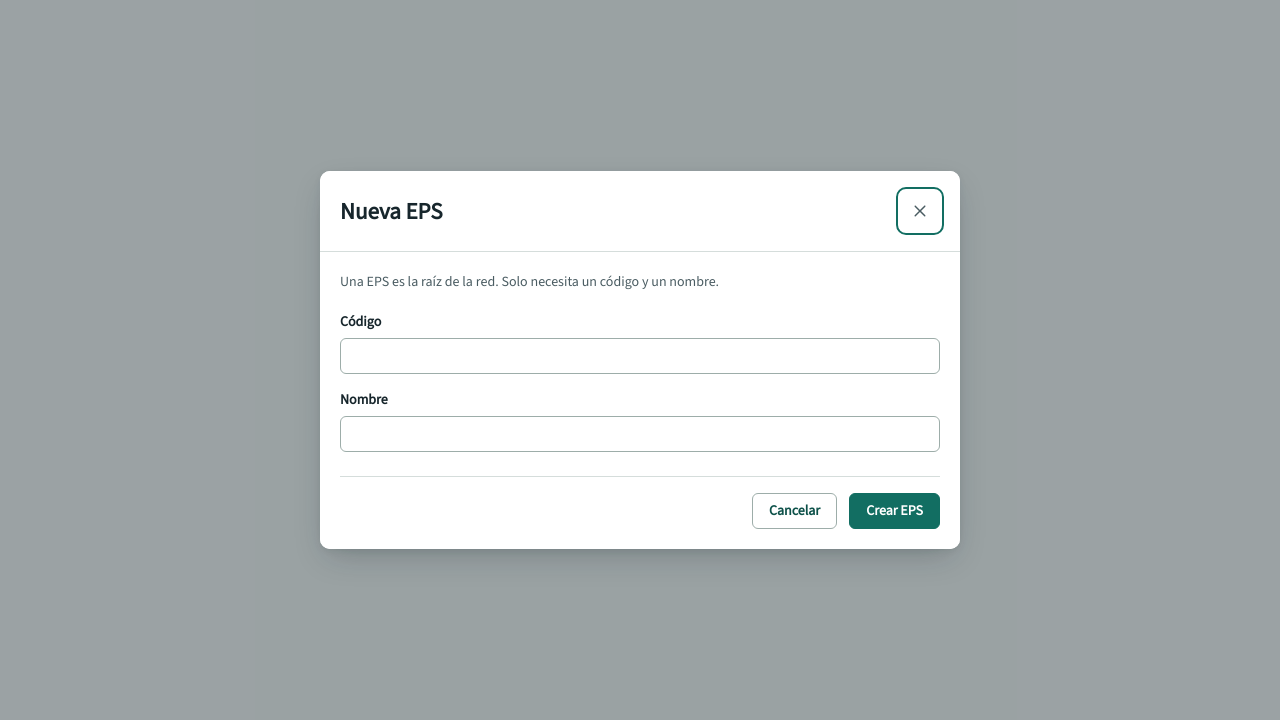
Test: keeps server 409 errors inline with entered values
Type "REPETIDO" into the field labelled "Código" at {"x": 640, "y": 356}, box [340,338,940,374]
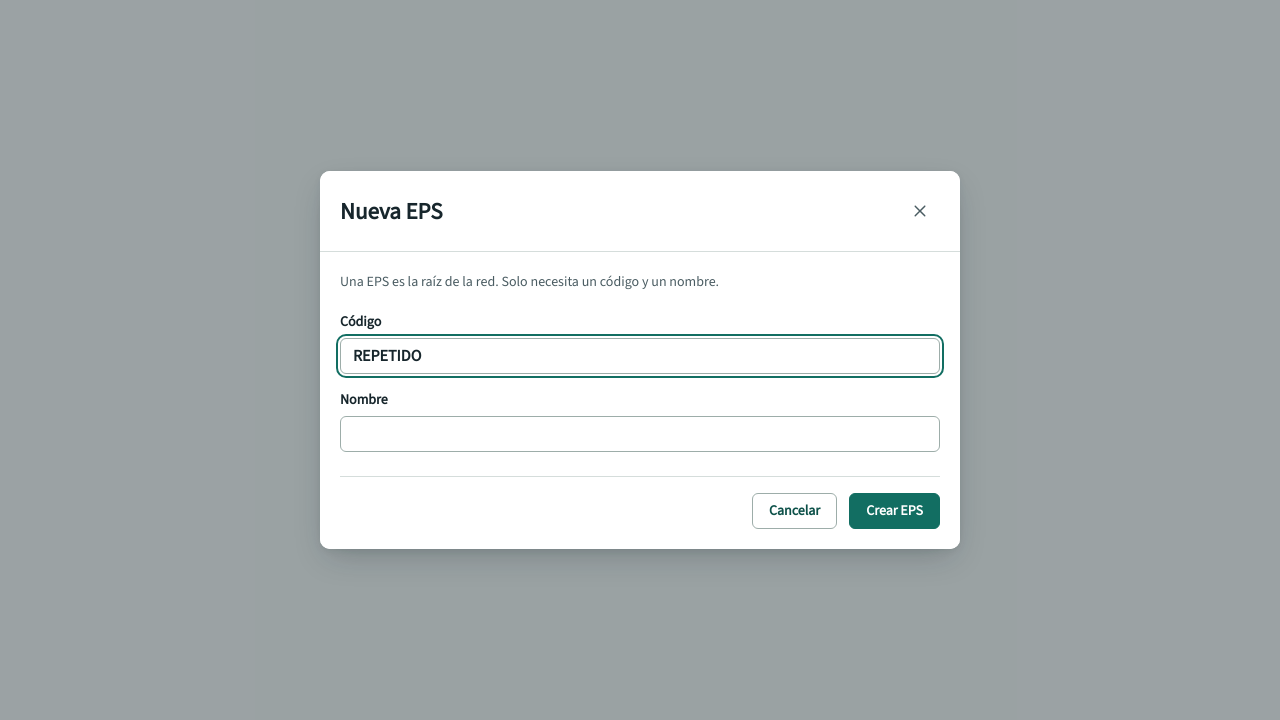
Type "Prueba" into the field labelled "Nombre" at {"x": 640, "y": 434}, box [340,416,940,452]
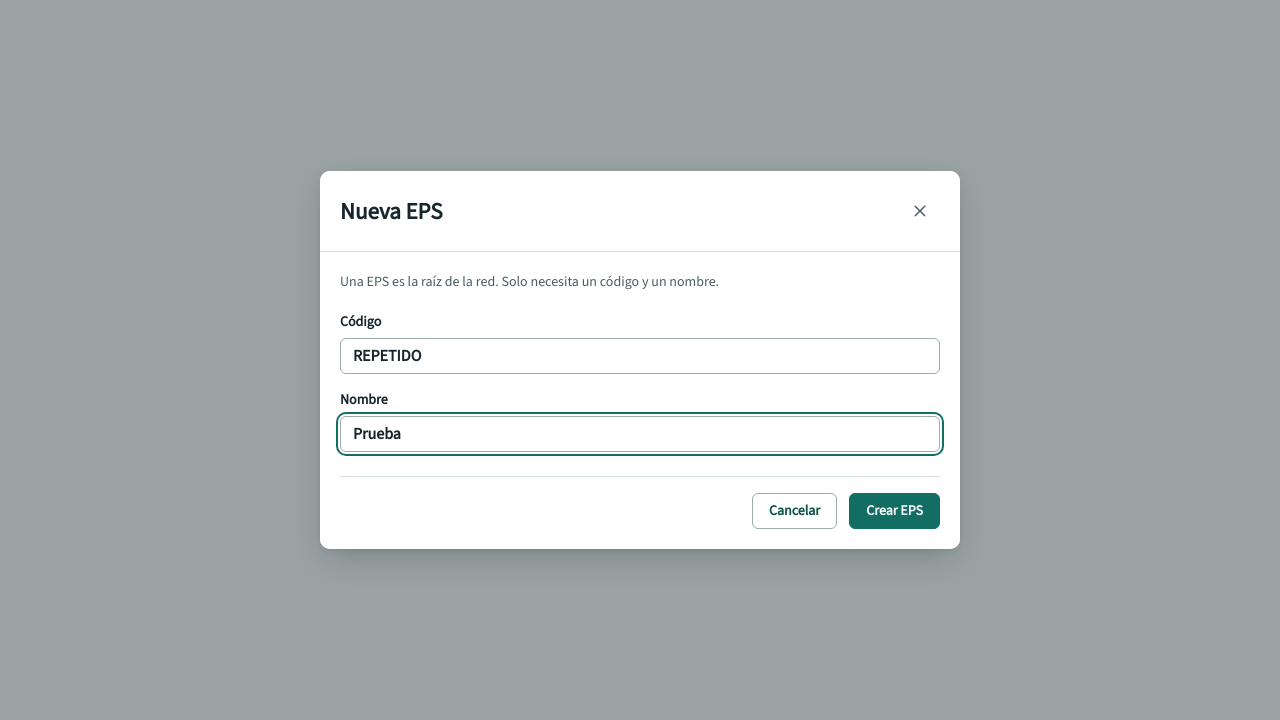
Click the button "Crear EPS" at {"x": 895, "y": 511}, box [849,493,940,529]
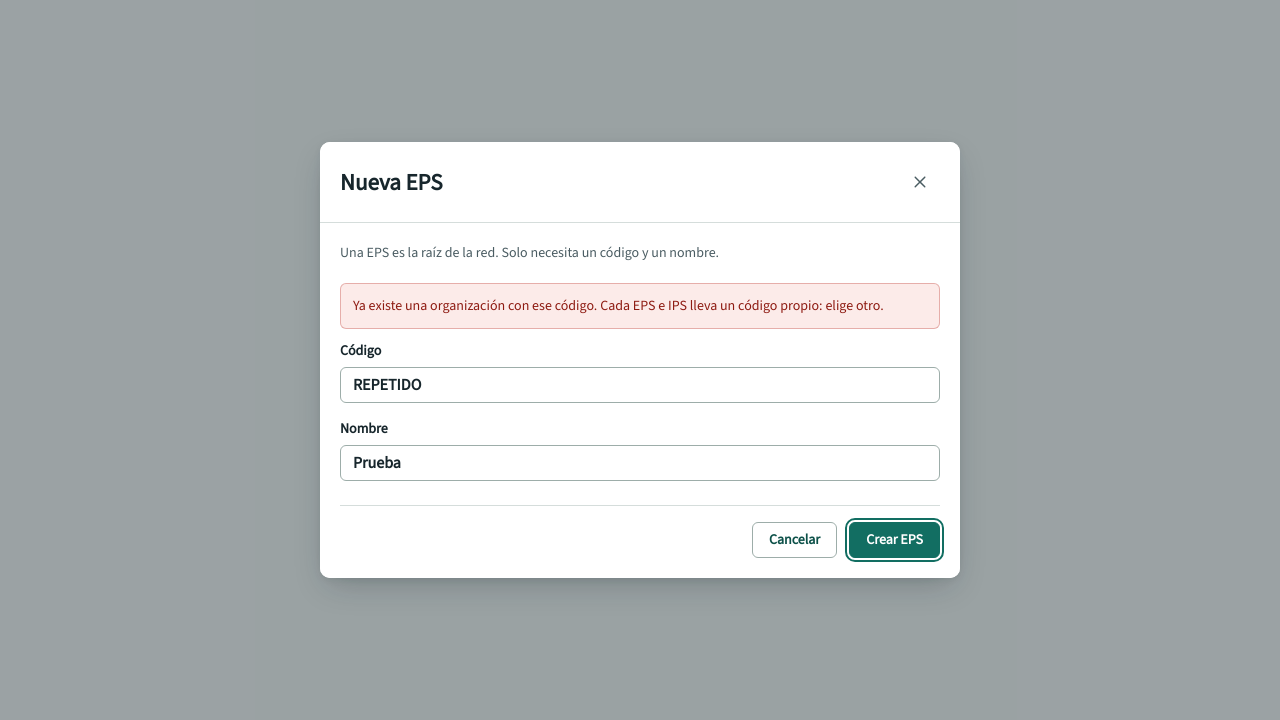
Expected: the message shows "Ya existe una organización con ese código", [353,296,884,315]
